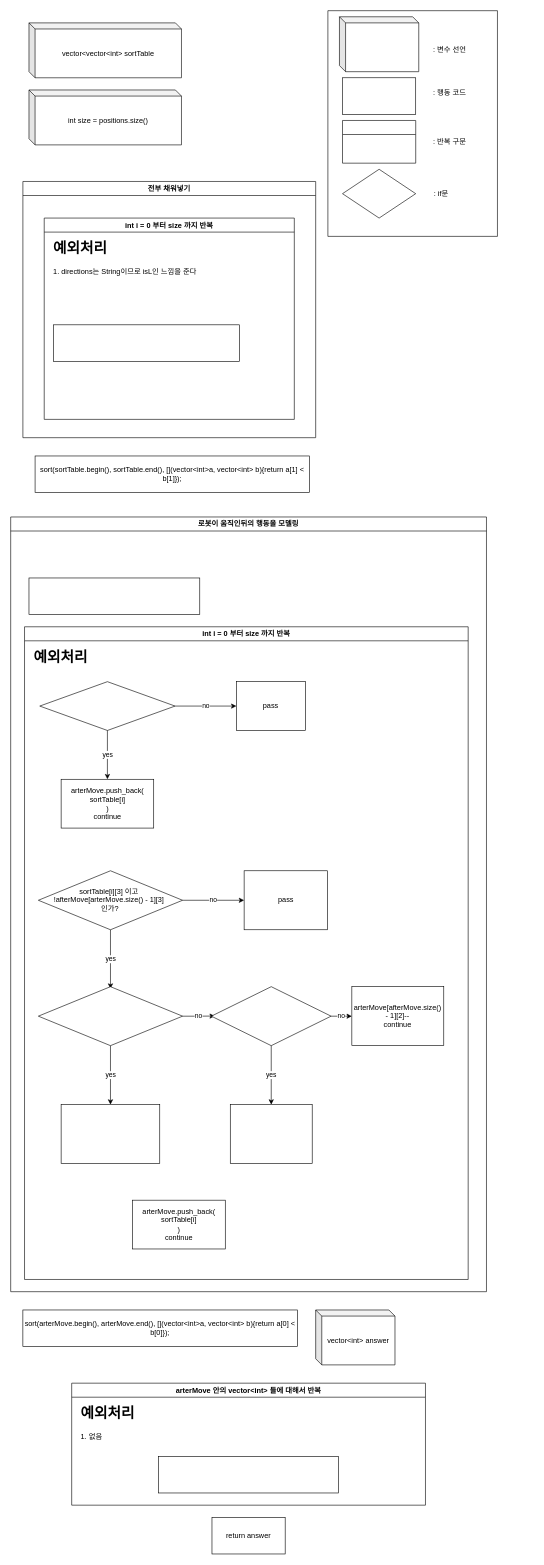
This 544x1565 diagram has some shape labels left out. Here are the shapes that lost their labels. From the top down, the centre of each, then its label:
the point at 379,141: ~ 동안
the point at 146,342: sortTable.push_back({i, position[i], health[i], direction[i] == 'L' })
the point at 114,596: vector<vector<int>> arterMove
the point at 107,705: arterMove가 비어있는가?
the point at 110,1016: sortTable[i][2] 가 arterMove[arterMove.size() - 1][2] 보다 큰가?
the point at 271,1016: 같은가?
the point at 110,1134: arterMove.pop_back() sortTable[i][2]--;
the point at 271,1134: afterMove.pop_back() continue
the point at 248,1474: answer,push_back(arg[2])
